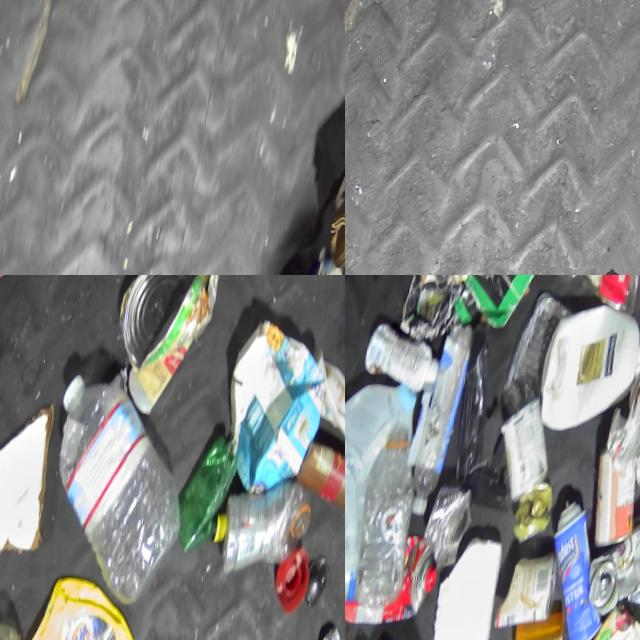can: (538, 500, 626, 640), (110, 275, 207, 387), (491, 400, 563, 515), (585, 518, 640, 629), (498, 552, 566, 640), (587, 449, 640, 560), (423, 488, 481, 576), (512, 481, 562, 554)
milk_jug: (345, 377, 423, 584), (536, 302, 640, 447)
non_white_jug: (213, 318, 339, 516), (13, 572, 151, 640)
plastic_bottle: (31, 368, 208, 625), (352, 425, 433, 617), (410, 324, 479, 524), (218, 479, 320, 587)
